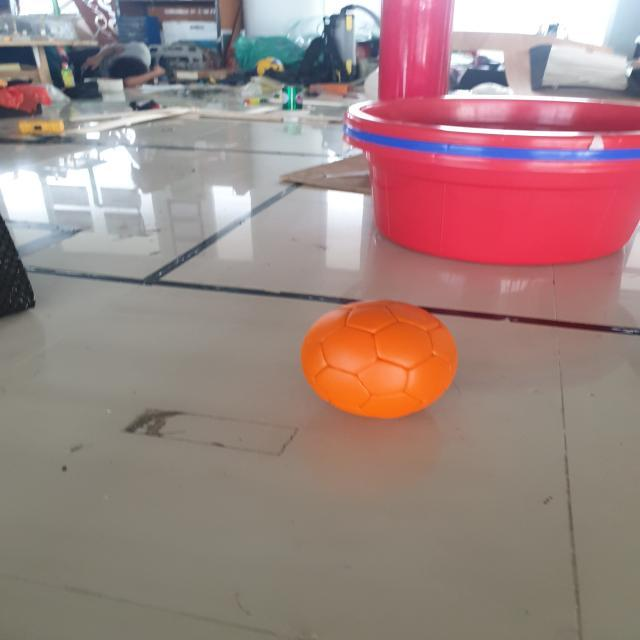bola: (296, 289, 476, 432)
